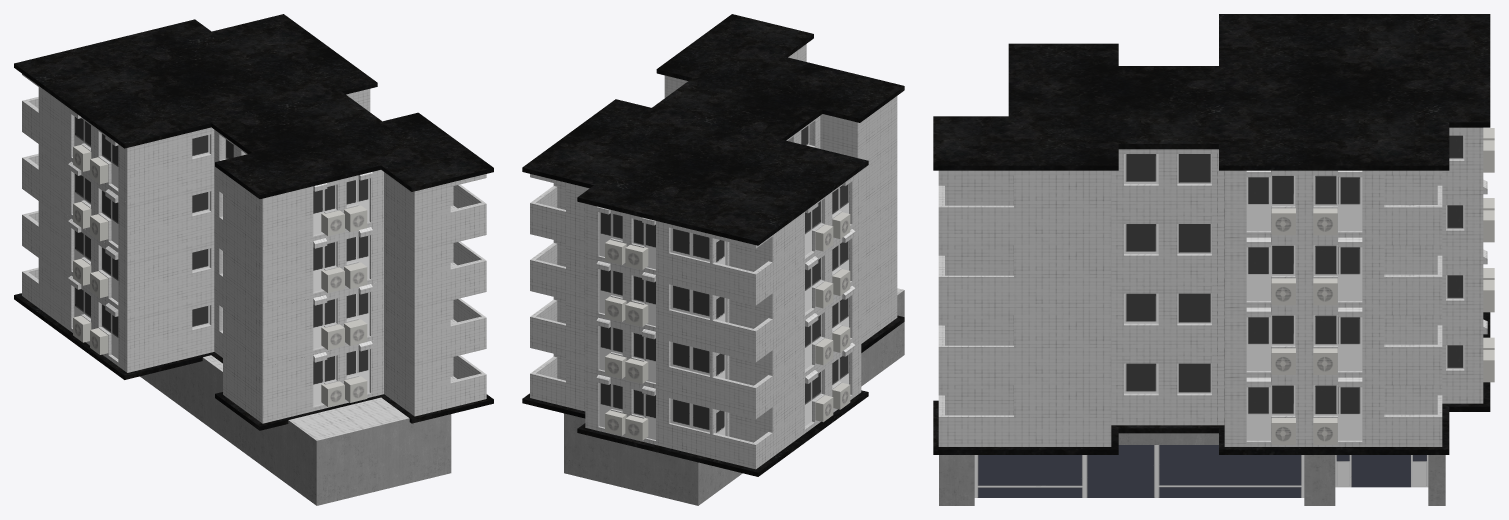
File: block01.glb
3 renders of one model, left to right at view 1: azimuth 30°, elevation 25°; view 2: azimuth 150°, elevation 25°; view 3: azimuth 270°, elevation 25°, orthographic. The views are drawn at different scales.
Parts seen in each view (by area): view 1: SM_Block01_fixed; view 2: SM_Block01_fixed; view 3: SM_Block01_fixed.
Boxes of the visible parts, <box> form: SM_Block01_fixed: <box>14,14,493,505</box>; SM_Block01_fixed: <box>522,14,904,505</box>; SM_Block01_fixed: <box>933,14,1494,505</box>.
Bounding box in the file's own units: 13.2 × 14.44 × 20.15.
Materials: 6 (6 with a texture image).
